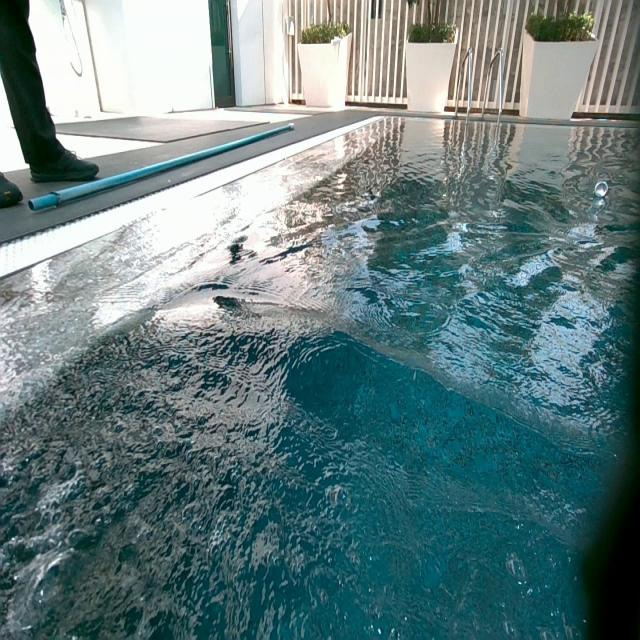Cans: (594, 180, 609, 196)
